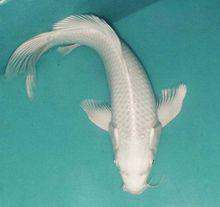white: (5, 11, 188, 195)
